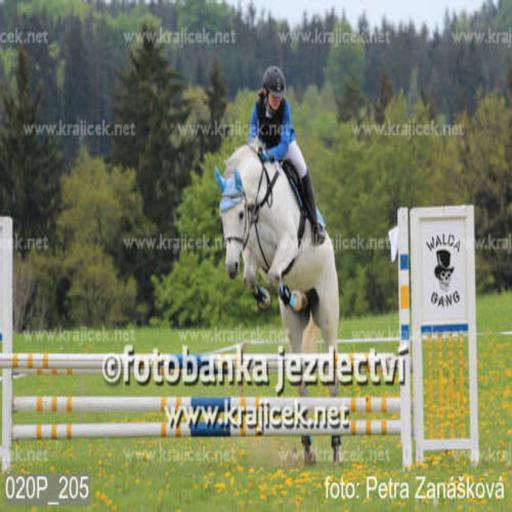Horse: (218, 135, 341, 466)
